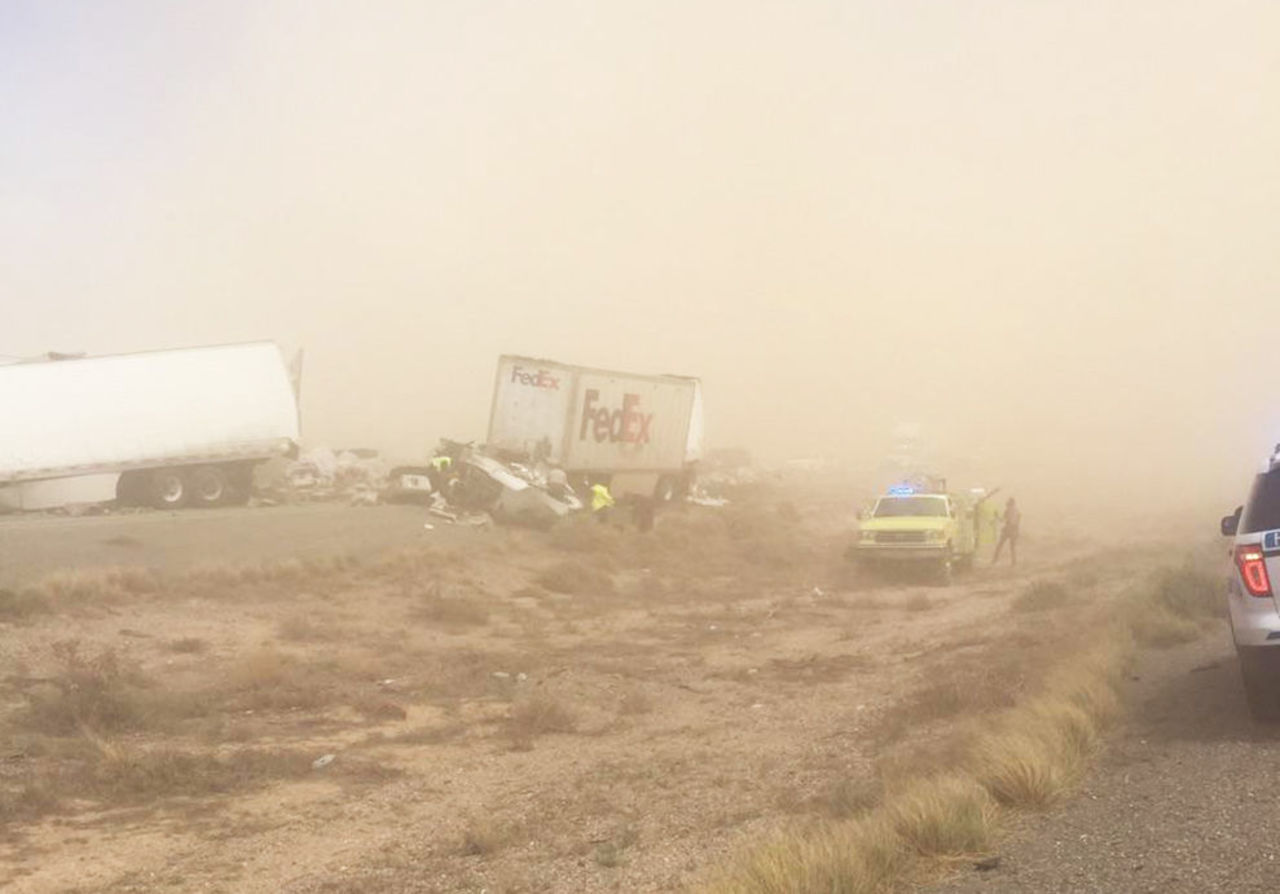car: (1217, 432, 1279, 728), (859, 481, 979, 574)
person: (988, 497, 1023, 564)
truck: (6, 341, 295, 521), (459, 351, 711, 523)
